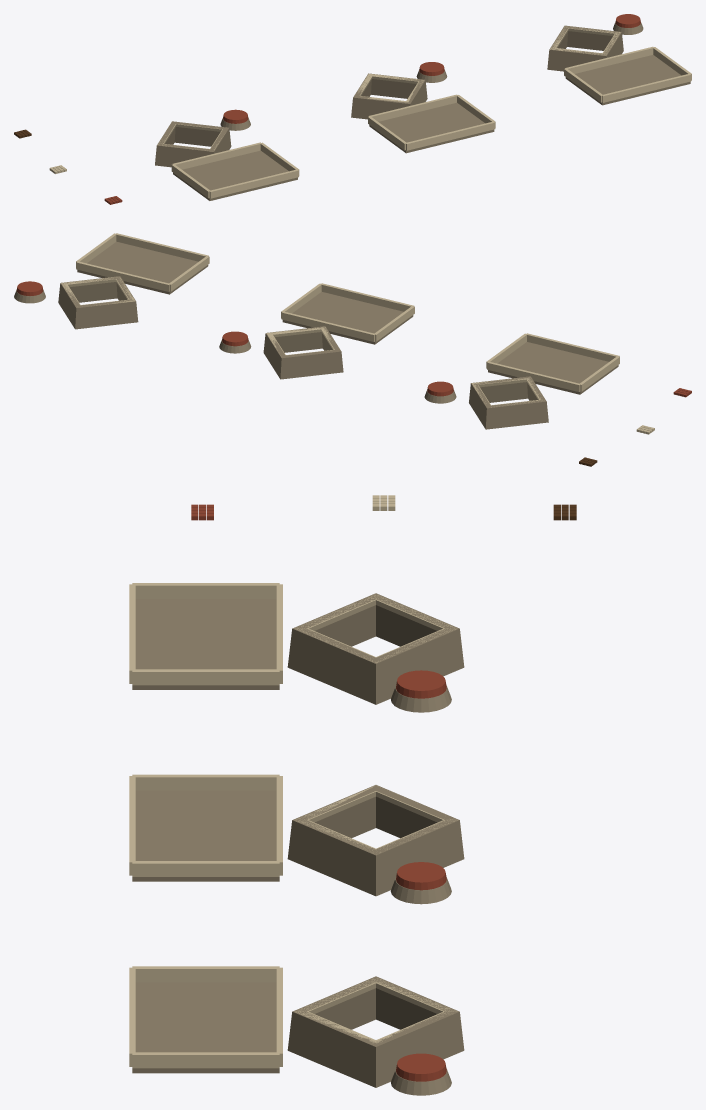
3 renders of one model, top to bottom at view 1: azimuth 30°, elevation 25°; view 2: azimuth 150°, elevation 25°; view 3: azimuth 270°, elevation 25°, orthographic. The views are drawn at different scales.
Parts seen in each view (by area): view 1: furnaceA_K1; view 2: furnaceA_K1; view 3: furnaceA_K1.
Part boxes in pixels (x1=…): furnaceA_K1: x1=14, y1=14, x2=691, y2=204; furnaceA_K1: x1=14, y1=233, x2=691, y2=466; furnaceA_K1: x1=129, y1=495, x2=576, y2=1095.
Size of the model in its own units: 122 by 3.9 by 39.48.
